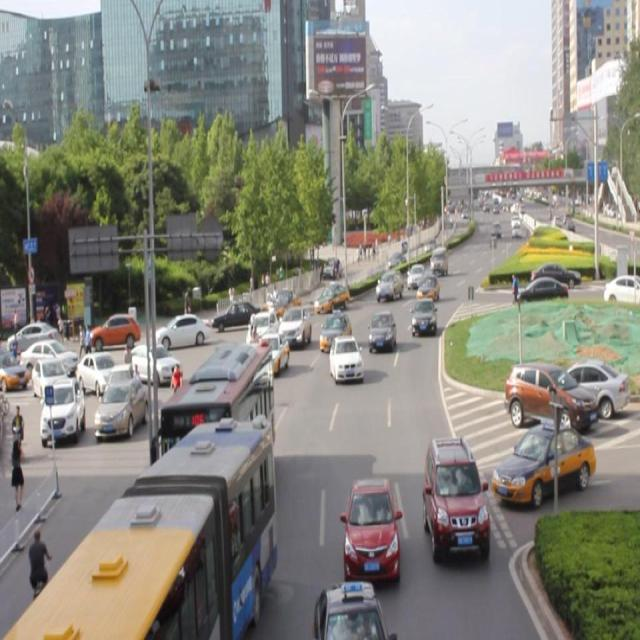car: (492, 424, 593, 502), (424, 435, 486, 558), (341, 474, 399, 581), (311, 579, 386, 640), (211, 345, 245, 395), (248, 334, 288, 376), (212, 298, 263, 330), (279, 304, 312, 350), (329, 335, 362, 380), (245, 310, 278, 350), (319, 310, 352, 350), (368, 309, 396, 350), (314, 282, 349, 314), (411, 295, 436, 336), (375, 268, 402, 300), (404, 260, 426, 289), (416, 273, 438, 301)
van: (9, 417, 277, 640), (163, 344, 274, 480)
